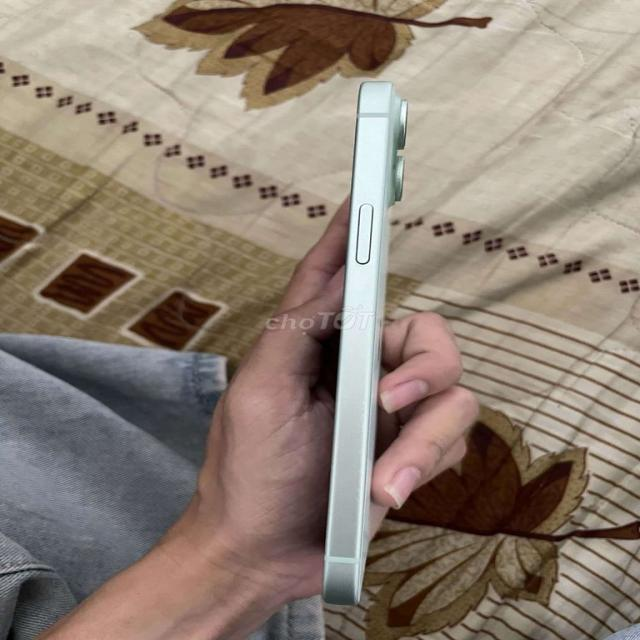gen_15: (293, 65, 415, 605)
scratch: (359, 350, 372, 473), (351, 487, 364, 524)
